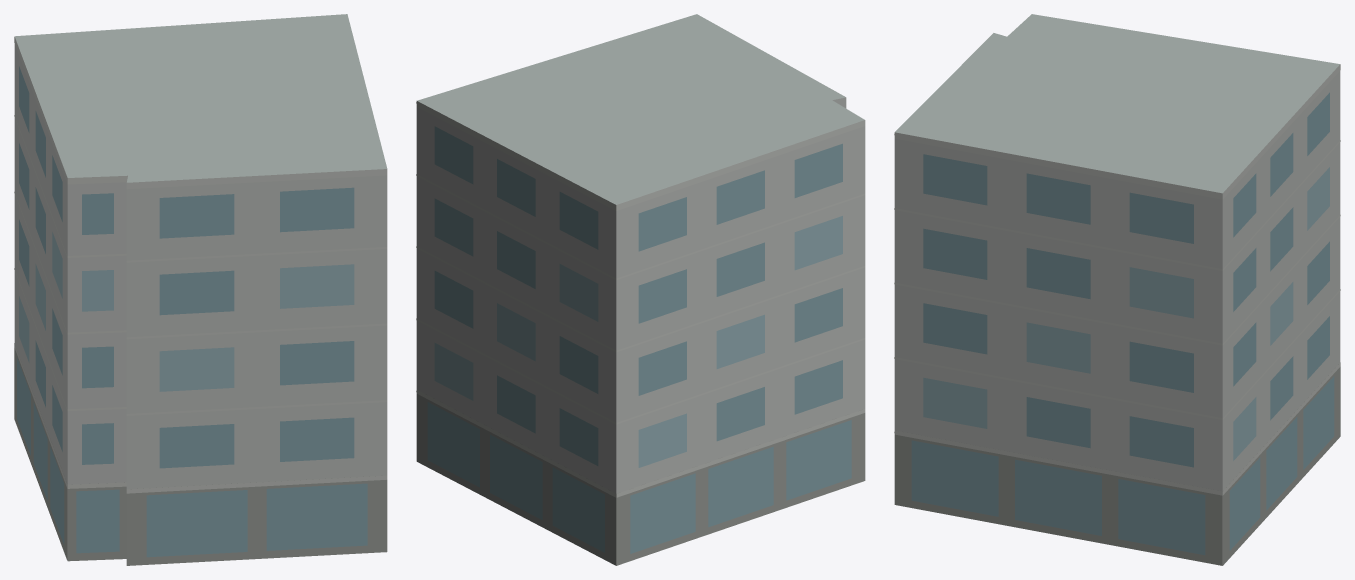
File: survey-upis-32734324.glb
3 views of the same model, side by side, from view 1: azimuth 30°, elevation 25°; view 2: azimuth 150°, elevation 25°; view 3: azimuth 270°, elevation 25° (orthographic). The views are drawn at different scales.
Parts seen in each view (by area): view 1: survey-upis-32734324.tmp; view 2: survey-upis-32734324.tmp; view 3: survey-upis-32734324.tmp.
Boxes of the visible parts, bbox=[...] form: survey-upis-32734324.tmp: bbox=[14, 14, 387, 565]; survey-upis-32734324.tmp: bbox=[416, 14, 865, 565]; survey-upis-32734324.tmp: bbox=[894, 14, 1340, 565].
Size of the model in its own units: 15 by 14.5 by 15.75.
